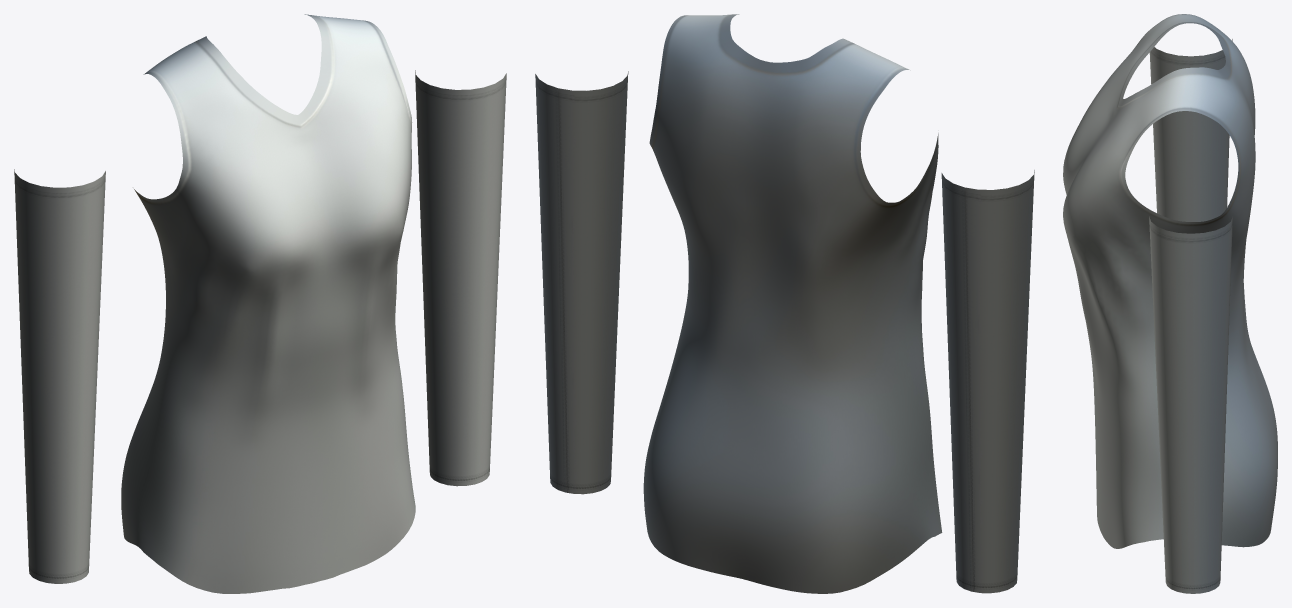
File: sleeveless-jersey-with-sleeve.glb
3 renders of one model, left to right at view 1: azimuth 30°, elevation 25°; view 2: azimuth 150°, elevation 25°; view 3: azimuth 270°, elevation 25°, orthographic. The views are drawn at different scales.
Parts seen in each view (by area): view 1: Dress_1:Group6254, pCylinder1, pCylinder2; view 2: Dress_1:Group6254, pCylinder1, pCylinder2; view 3: Dress_1:Group6254, pCylinder1, pCylinder2.
Part boxes in pixels (bbox=[...]): Dress_1:Group6254: bbox=[121, 14, 415, 593]; pCylinder1: bbox=[415, 70, 506, 486]; pCylinder2: bbox=[14, 169, 105, 583]; Dress_1:Group6254: bbox=[643, 14, 942, 593]; pCylinder1: bbox=[535, 71, 628, 494]; pCylinder2: bbox=[941, 170, 1034, 593]; Dress_1:Group6254: bbox=[1063, 14, 1277, 548]; pCylinder1: bbox=[1149, 216, 1232, 593]; pCylinder2: bbox=[1149, 39, 1232, 221].
Size of the model in its own units: 6 by 6.16 by 2.56.
8 materials, 8 textured.
